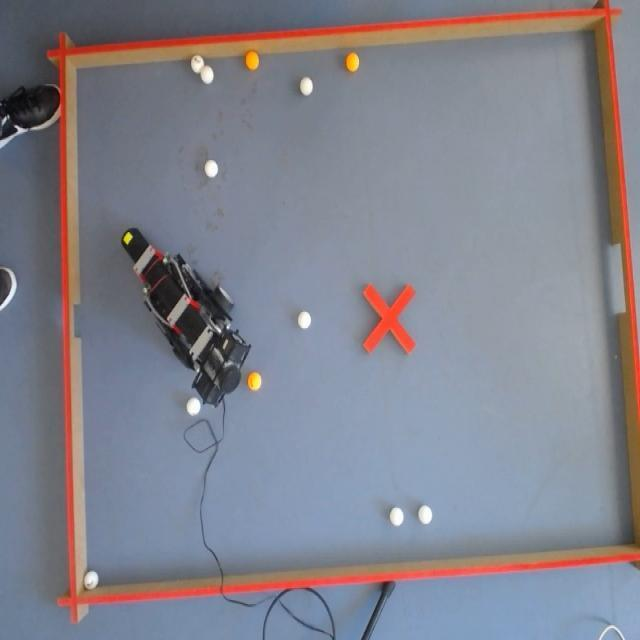orange: (344, 54, 360, 74), (246, 50, 259, 70), (248, 372, 262, 389)
robot: (118, 228, 254, 414)
white: (201, 62, 216, 84), (204, 158, 218, 180), (186, 397, 201, 416), (418, 504, 432, 524), (300, 76, 312, 98), (85, 570, 98, 590), (298, 310, 311, 330), (392, 507, 404, 527), (190, 56, 203, 74)
